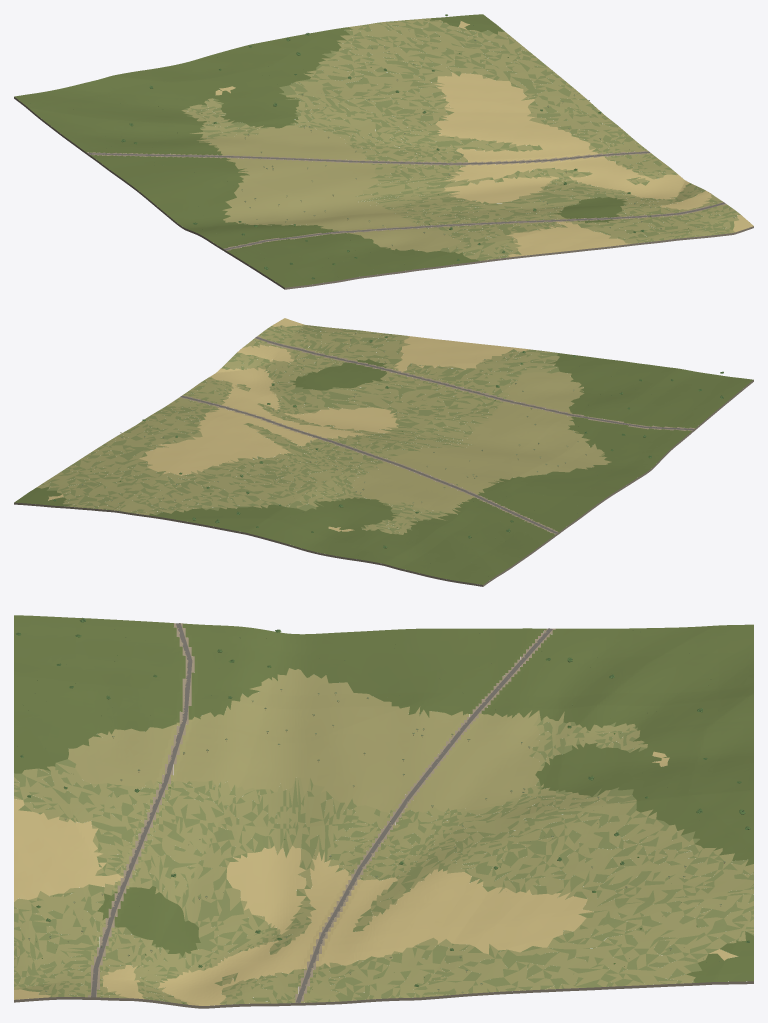
File: parca_+12_-3-yakin.glb
3 renders of one model, top to bottom at view 1: azimuth 30°, elevation 25°; view 2: azimuth 150°, elevation 25°; view 3: azimuth 270°, elevation 25°, orthographic. The views are drawn at different scales.
Visible parts, largest first — view 1: parca_+12_-3_arazi, parca_+12_-3_yollar, parca_+12_-3_bitkiler; view 2: parca_+12_-3_arazi, parca_+12_-3_yollar, parca_+12_-3_bitkiler; view 3: parca_+12_-3_arazi, parca_+12_-3_yollar, parca_+12_-3_bitkiler.
Boxes of the visible parts, bbox=[...] form: parca_+12_-3_arazi: bbox=[14, 14, 753, 289]; parca_+12_-3_yollar: bbox=[88, 151, 725, 250]; parca_+12_-3_bitkiler: bbox=[30, 14, 734, 279]; parca_+12_-3_arazi: bbox=[14, 318, 753, 586]; parca_+12_-3_yollar: bbox=[180, 336, 693, 533]; parca_+12_-3_bitkiler: bbox=[48, 326, 723, 563]; parca_+12_-3_arazi: bbox=[14, 615, 753, 1008]; parca_+12_-3_yollar: bbox=[91, 623, 552, 1002]; parca_+12_-3_bitkiler: bbox=[15, 617, 750, 1003].
Bounding box in the file's own units: 1002 × 124 × 1000.
